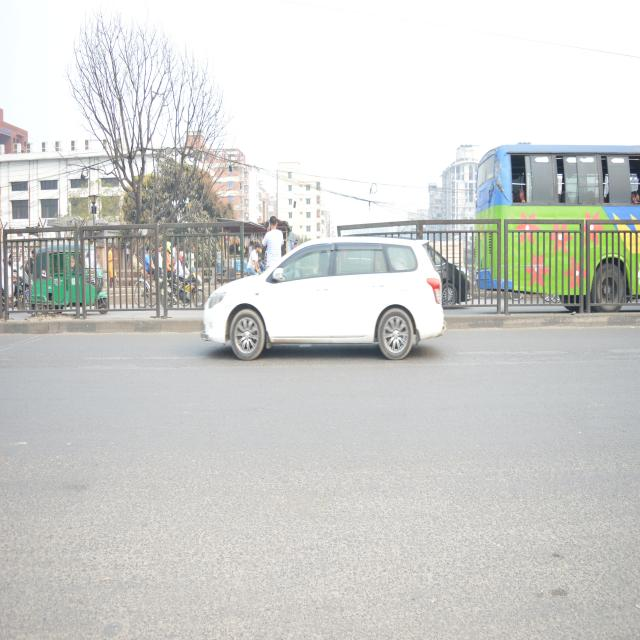bus: (471, 136, 640, 312)
car: (200, 231, 444, 375)
motorbike: (152, 266, 200, 315)
